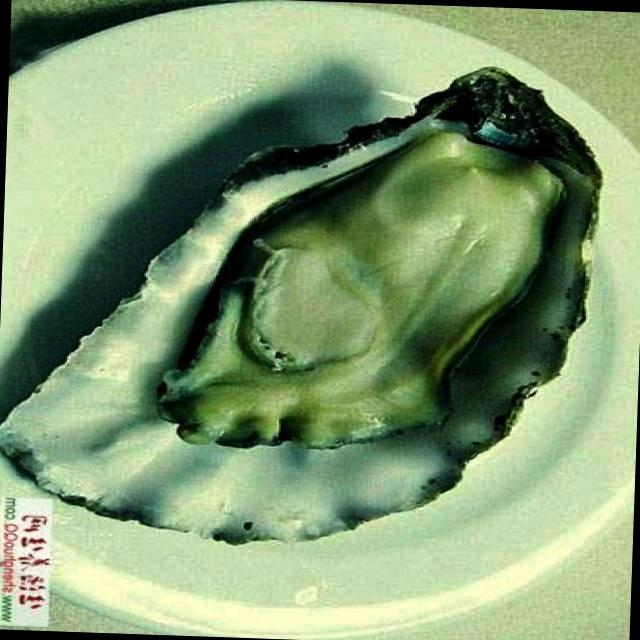Oyster-Open: (2, 66, 604, 542)
